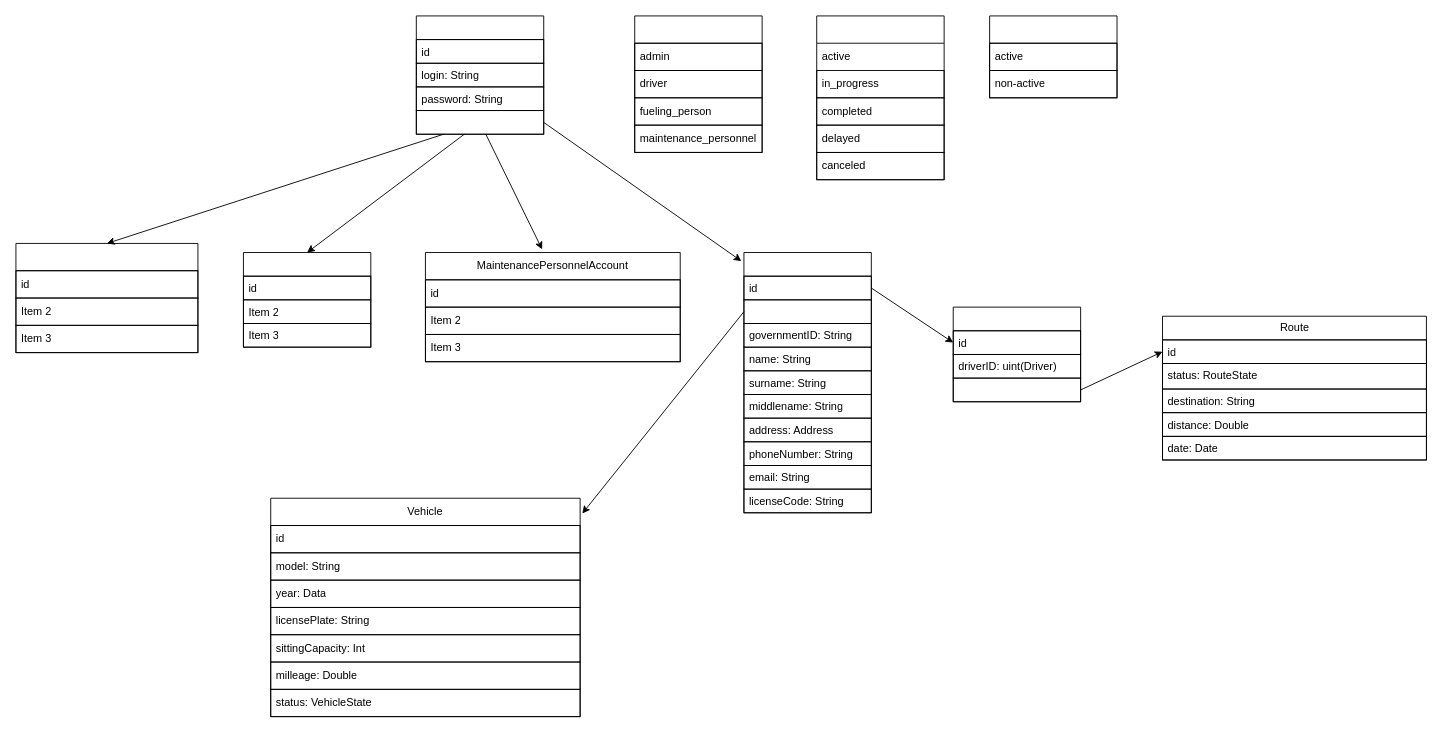
Some shapes in this 1442 by 733 pixel diagram are drawn without their labels. The box of each missing label's shape, as (x1, y1, x2, y2) in pixels:
<<Enumeration>> RoleType: (634, 15, 762, 152)
<<Enumeration>> RouteState: (816, 15, 944, 180)
<<Enumeration>> VehicleState: (989, 15, 1117, 98)
AdminAccount: (243, 252, 371, 347)
DriverAccount: (743, 252, 871, 513)
FuelingPersonAccount: (15, 243, 198, 353)
role: RoleType: (415, 110, 544, 134)
RouteHistory: (952, 306, 1081, 402)
routeID: uint(Route): (952, 377, 1081, 402)
User: (415, 15, 544, 134)
vehicleId: string: (743, 299, 871, 324)
